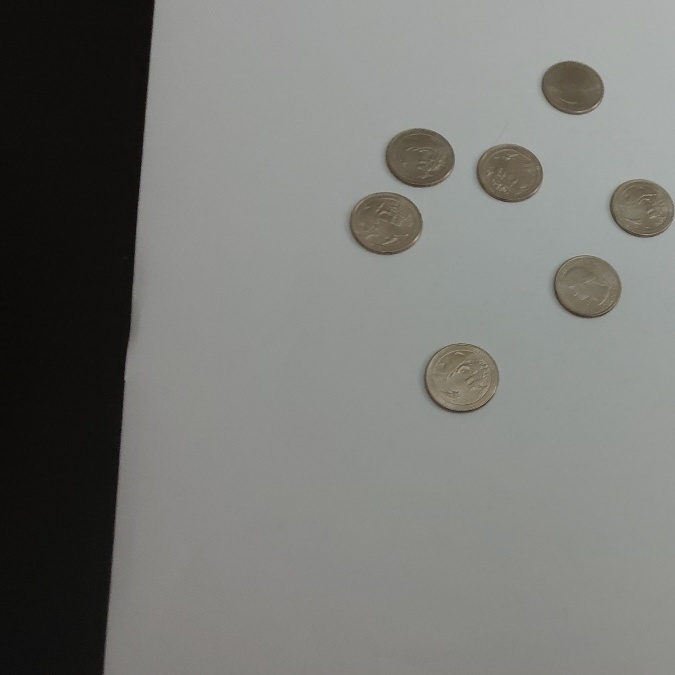coin_quarter: (422, 339, 503, 418), (347, 187, 426, 259), (551, 248, 625, 324), (474, 138, 548, 204), (381, 124, 456, 189), (539, 53, 605, 117)
